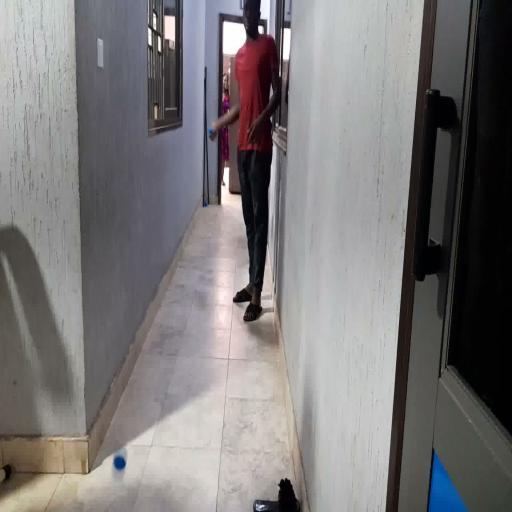plastic-ball: (111, 444, 129, 480)
